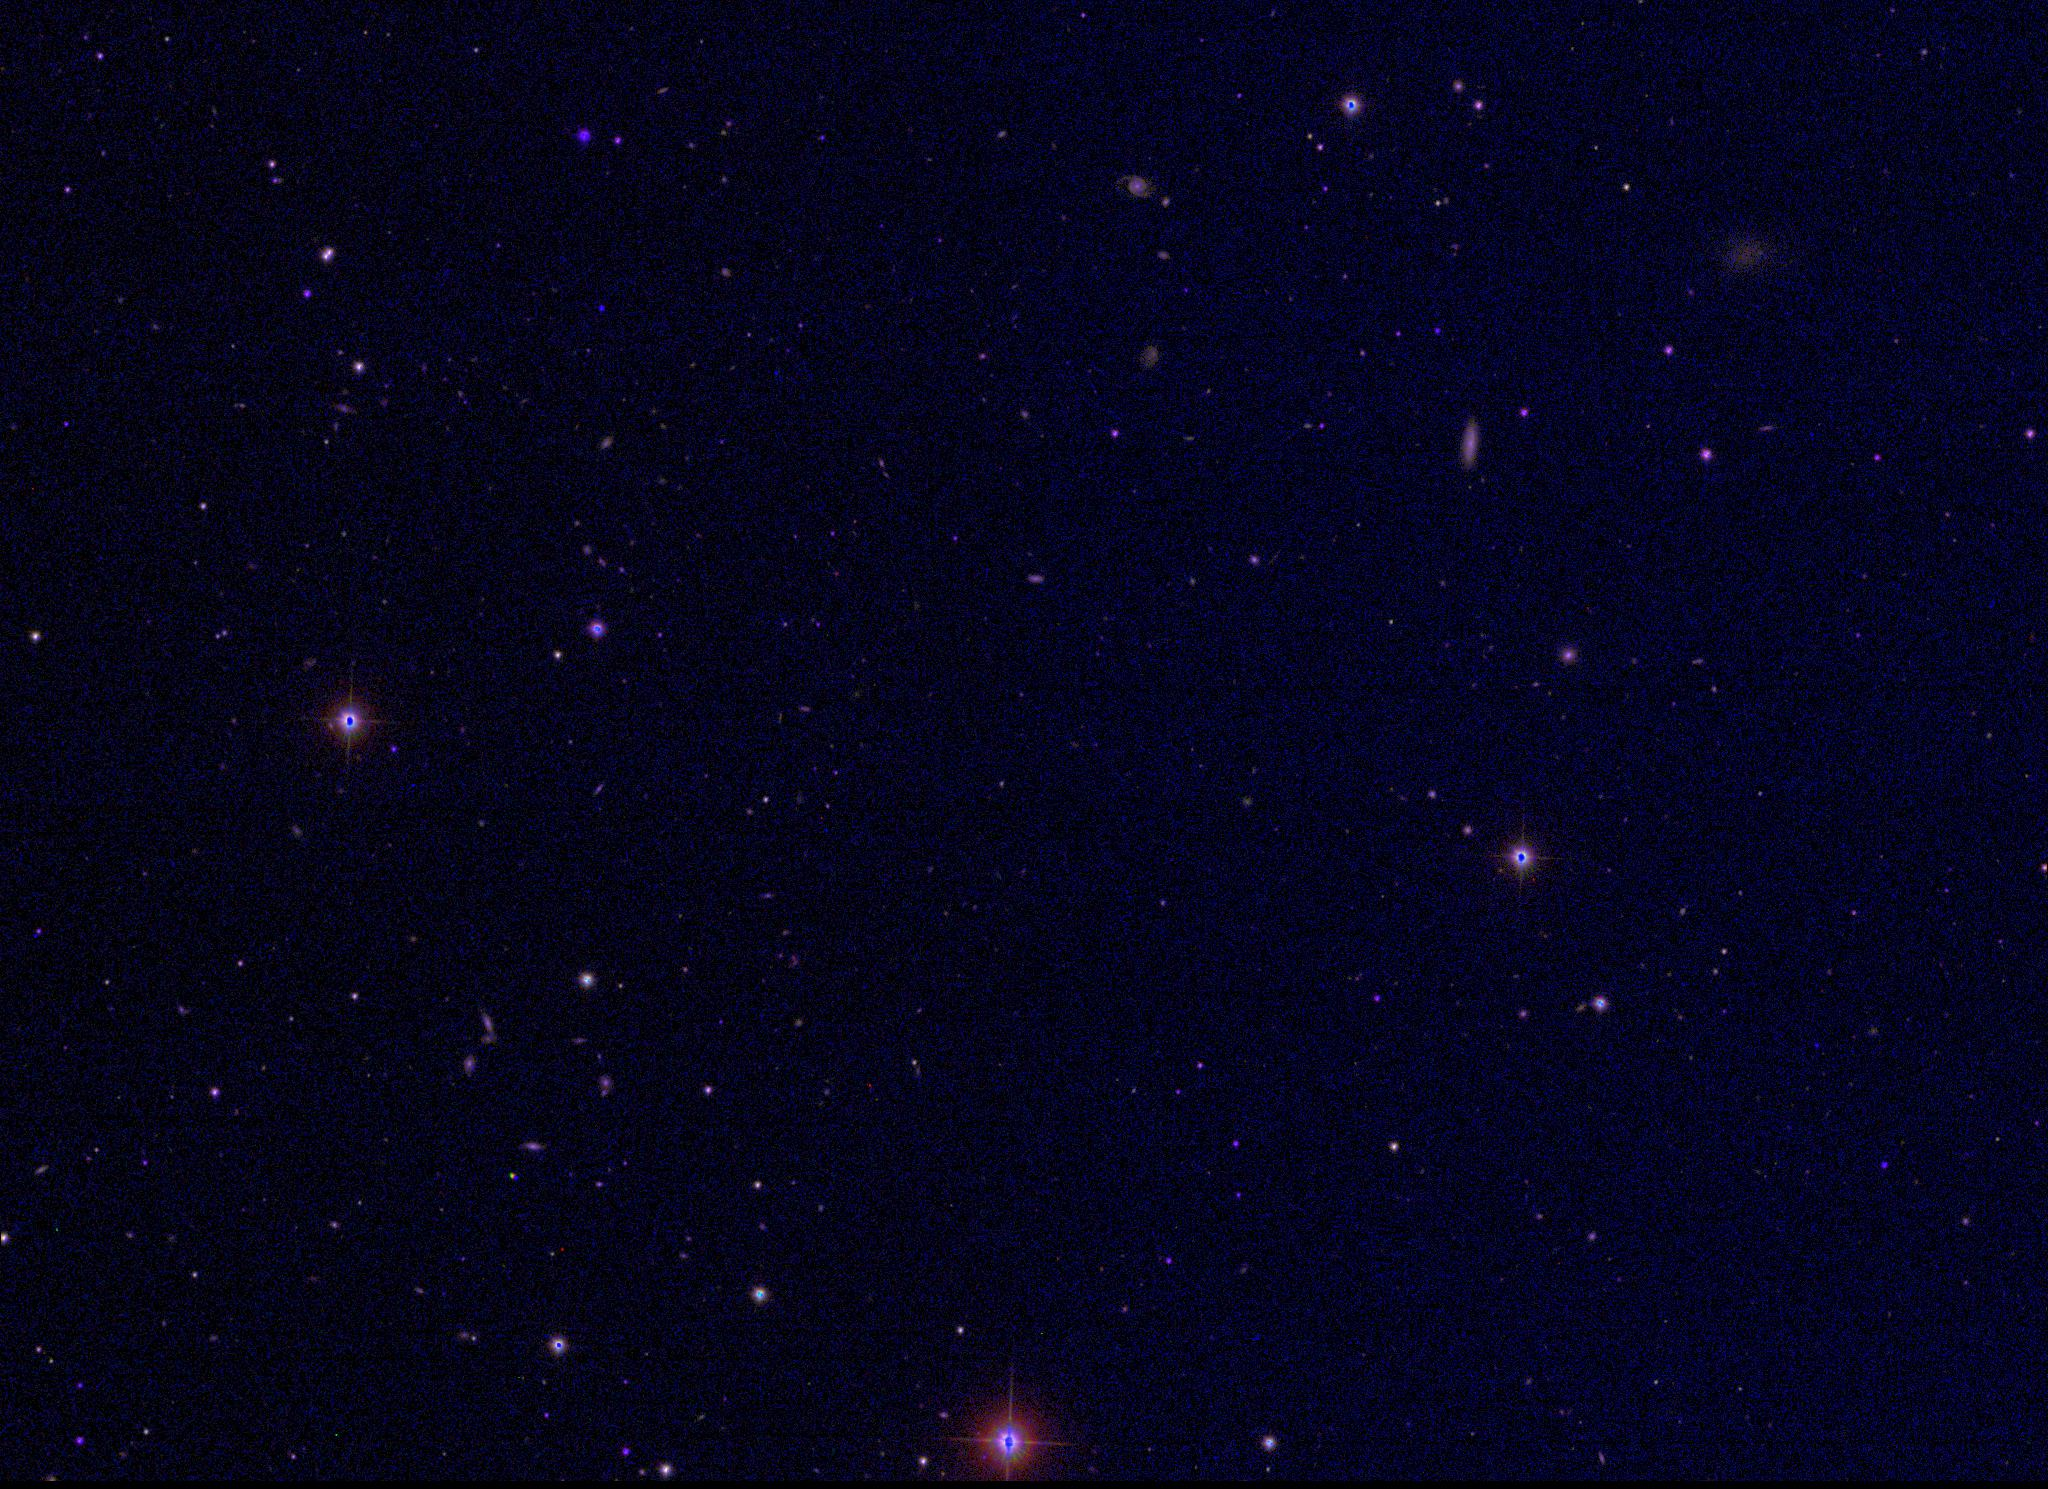L: (595, 301, 607, 313)
